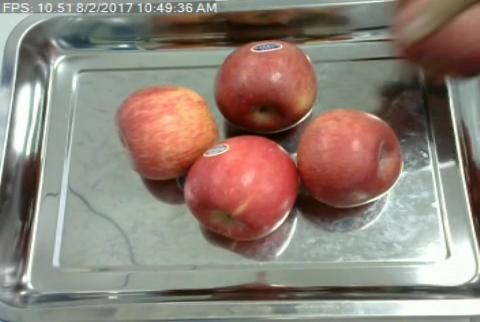apple: (184, 136, 298, 239), (299, 110, 403, 209), (115, 86, 216, 177), (215, 40, 317, 130)
